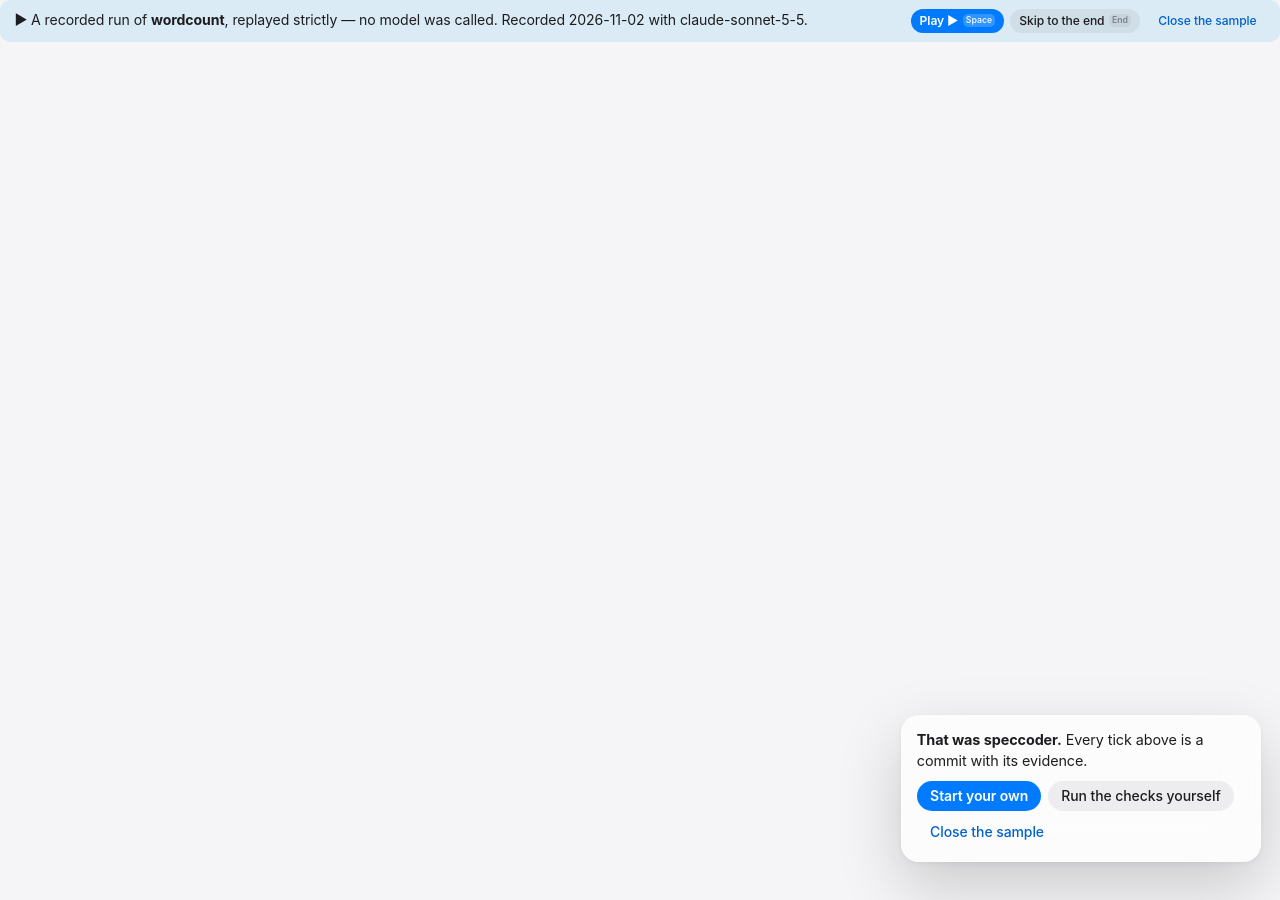
Scenario: SamplePlayback › runs the sample's checks through their kind, or says which tool is missing
The width and height of the screenshot is (1280, 900).
Click the button "Run the checks yourself".
click(1141, 796)  # box top-left (1048, 781), bottom-right (1234, 811)
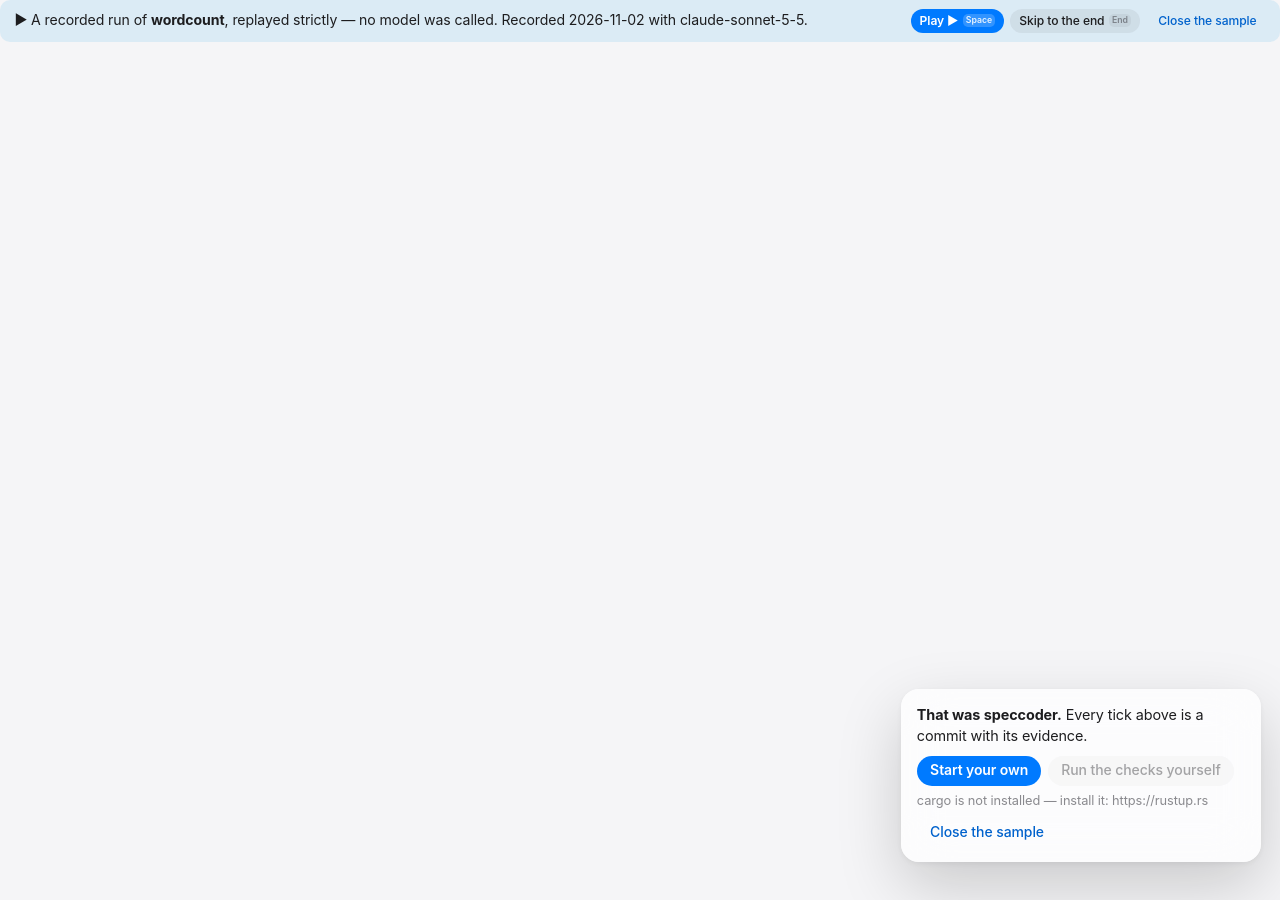
Expected: the button "Run the checks yourself" is disabled, top-left (1048, 756), bottom-right (1234, 786)
Expected: the text "cargo is not installed" is shown, top-left (917, 793), bottom-right (1208, 808)
